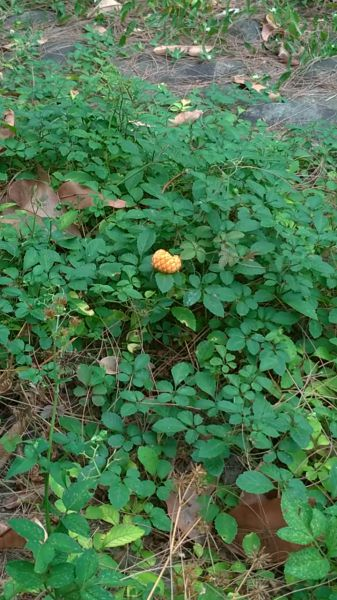eggs: (150, 246, 184, 276)
